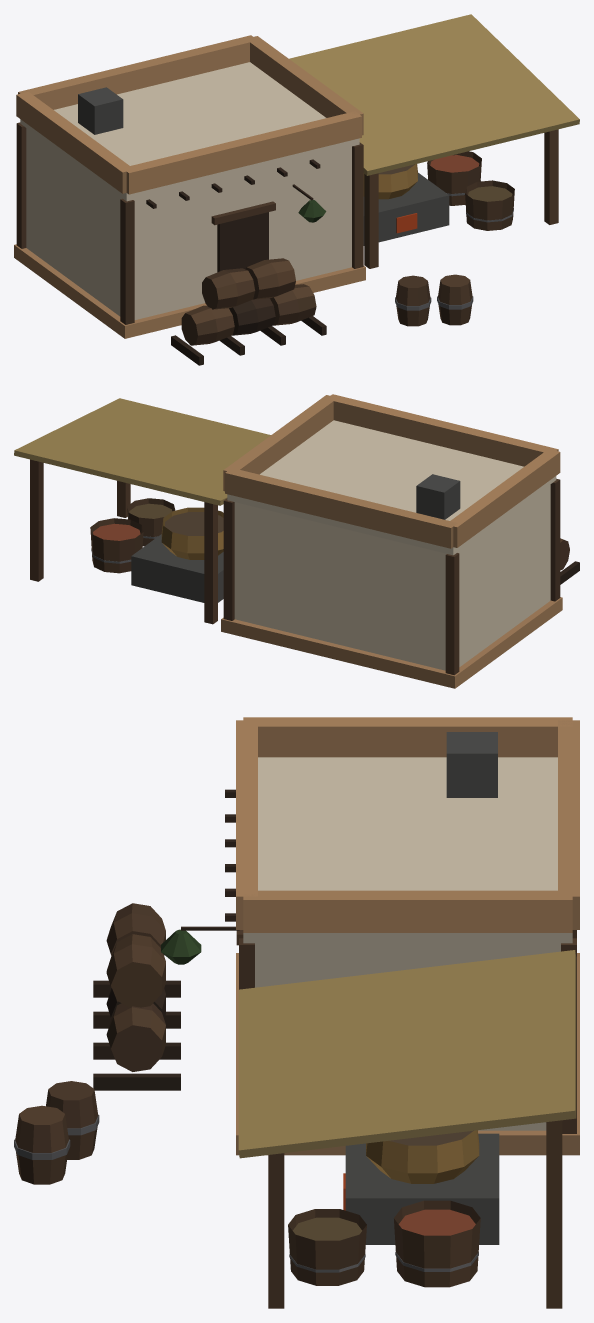
File: walk_sunborn_brewery.glb
The picture shows the model from 3 angles, top to bottom: view 1: azimuth 30°, elevation 25°; view 2: azimuth 150°, elevation 25°; view 3: azimuth 270°, elevation 25°; orthographic projection. The views are drawn at different scales.
Parts seen in each view (by area): view 1: walk_sunborn_brewery, walk_sunborn_brewery_roof; view 2: walk_sunborn_brewery, walk_sunborn_brewery_roof; view 3: walk_sunborn_brewery_roof, walk_sunborn_brewery.
Boxes of the visible parts, <box> form: walk_sunborn_brewery: <box>14,122,558,365</box>; walk_sunborn_brewery_roof: <box>16,14,579,201</box>; walk_sunborn_brewery: <box>30,459,579,688</box>; walk_sunborn_brewery_roof: <box>14,394,560,555</box>; walk_sunborn_brewery_roof: <box>236,717,579,1158</box>; walk_sunborn_brewery: <box>14,789,579,1308</box>.
Size of what is drawn, in the model's own units: 11.15 by 4.06 by 7.73.
2 materials, 2 textured.
